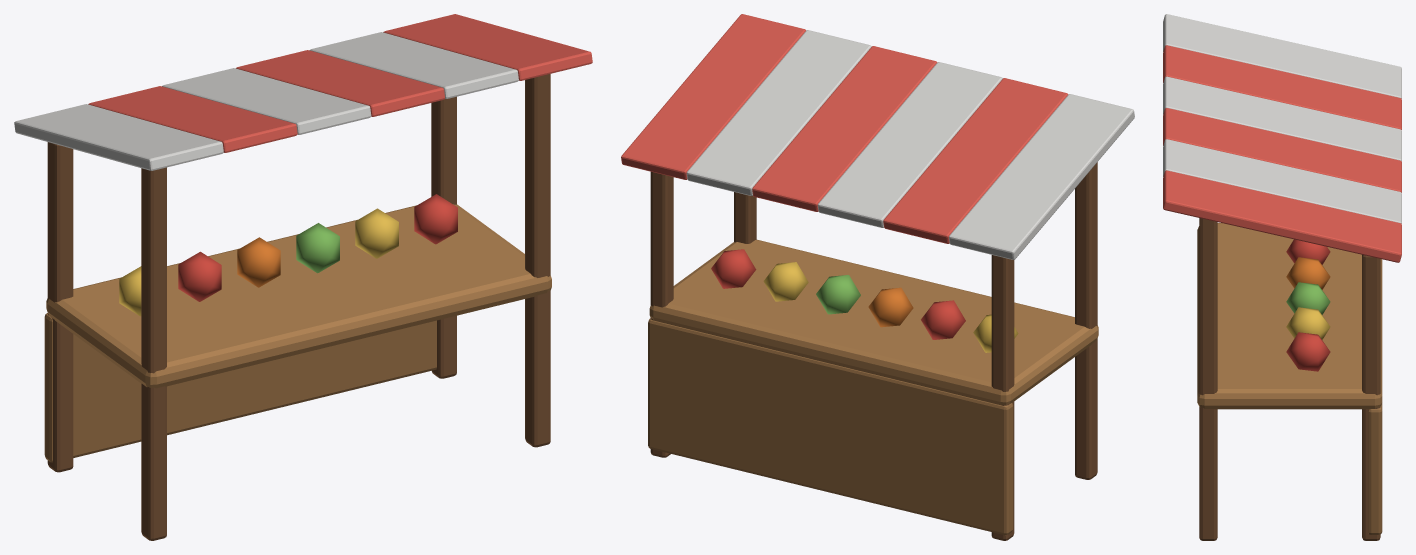
The model's file is market_stall.fbx.
The picture shows the model from 3 angles, left to right: view 1: azimuth 30°, elevation 25°; view 2: azimuth 150°, elevation 25°; view 3: azimuth 270°, elevation 25°; orthographic projection. The views are drawn at different scales.
Visible parts, largest first — view 1: market_stall; view 2: market_stall; view 3: market_stall.
Boxes of the visible parts, x1,y1,x2,y2 form: market_stall: (14, 14, 592, 540); market_stall: (621, 14, 1134, 540); market_stall: (1163, 14, 1401, 540).
Bounding box in the file's own units: 1.2 × 1.04 × 0.6452.
